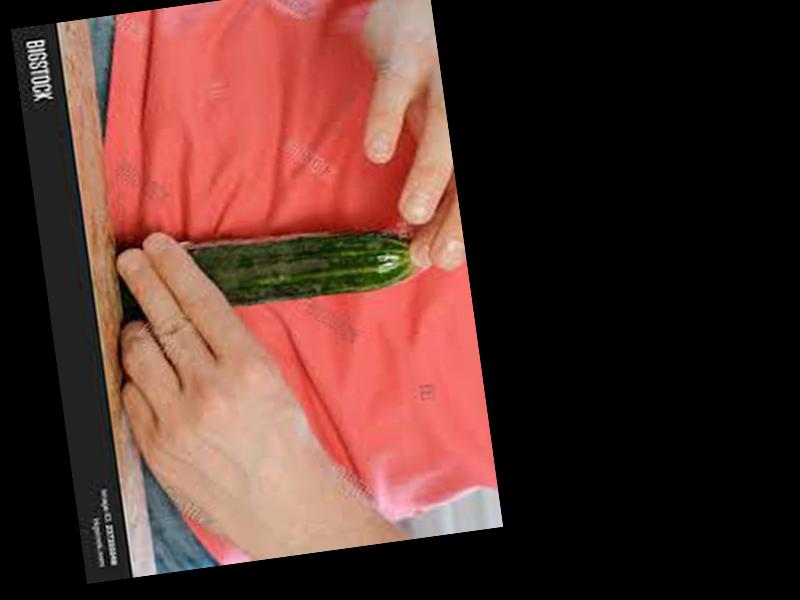Cucumber: (184, 215, 416, 316)
